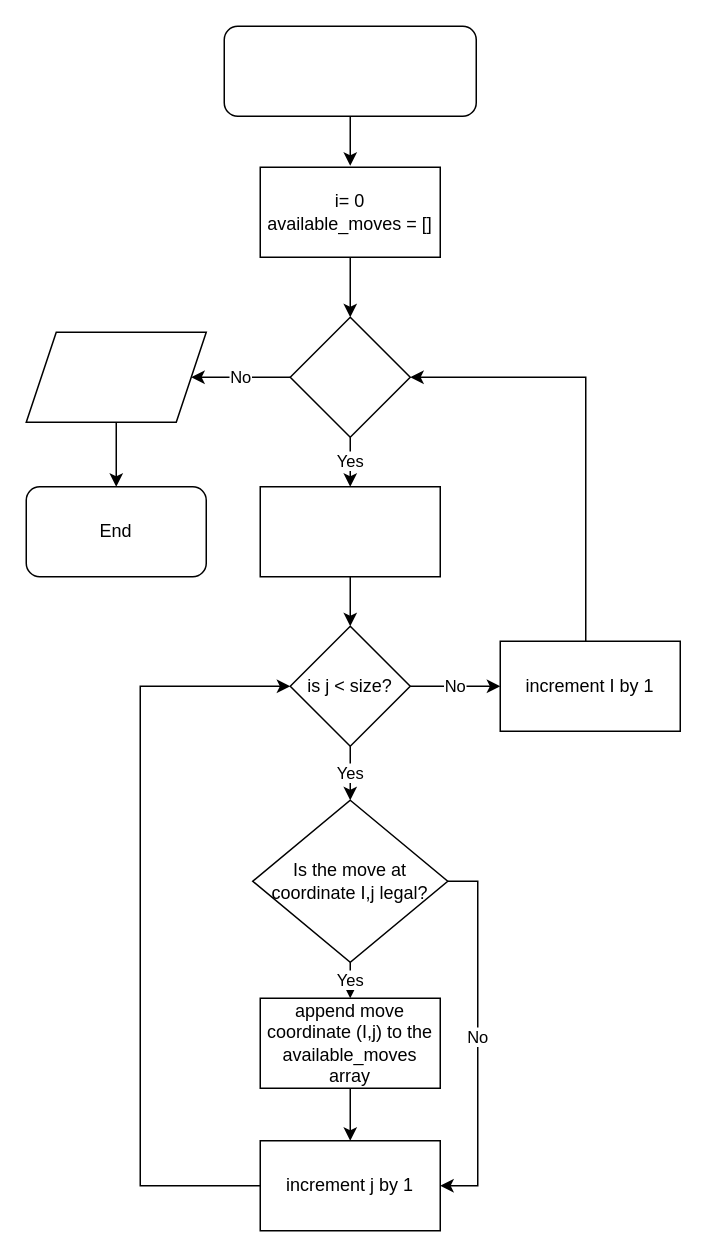
This 707x1257 diagram has some shape labels left out. The shapes that lost their labels are listed below. From the top down, each one's box as (x1, y1, x2, y2) in pixels, then its label:
(223, 25, 476, 116): Start/valid_moves(colour, board,size)
(25, 331, 206, 422): Return available_moves
(289, 316, 410, 437): is I < size?
(259, 485, 440, 577): J = 0
